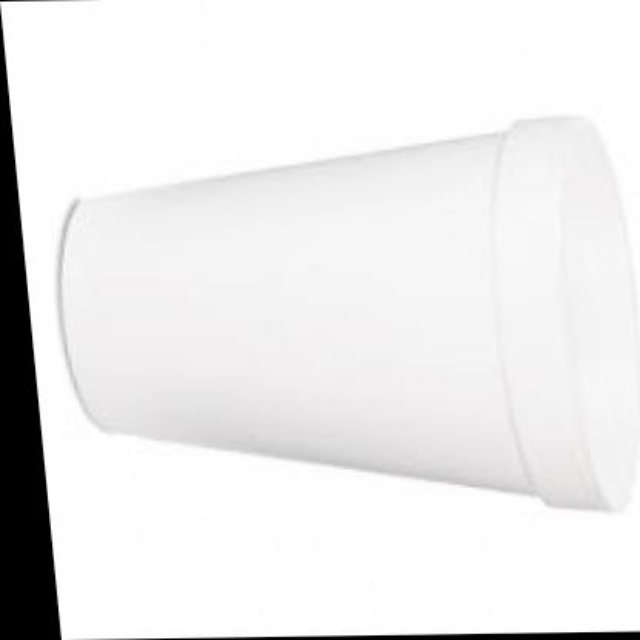trash: (60, 117, 637, 508)
